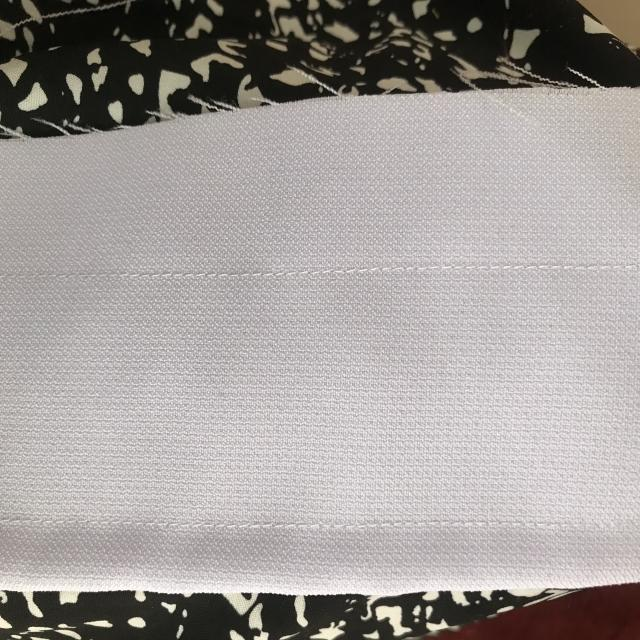good: (115, 254, 284, 304), (329, 247, 480, 286)
